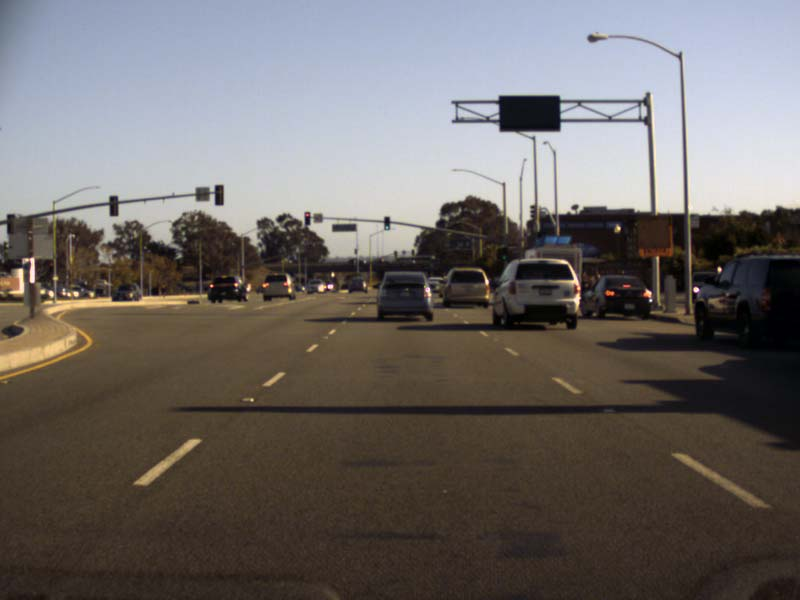Green: (383, 215, 389, 230)
Red: (303, 210, 309, 225)
